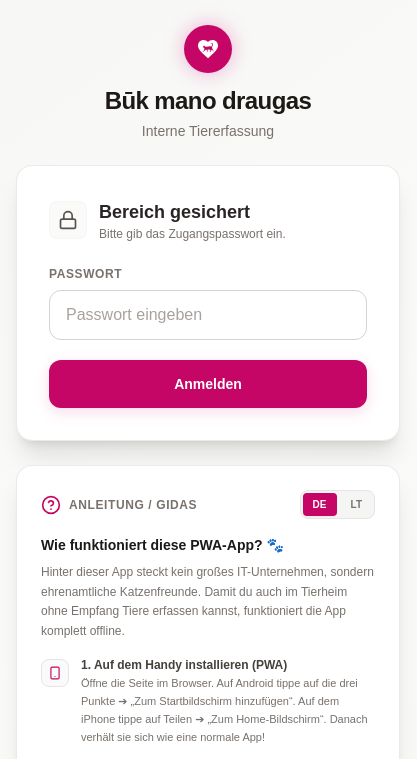
LoginPage Security & Authentication Tests › Negative Path: rejects wrong password and displays error banner
Step 1. Type "WRONG_PASSWORD_123" into the password field with placeholder "Passwort eingeben" → (208, 315), box top-left (49, 290), bottom-right (367, 340)
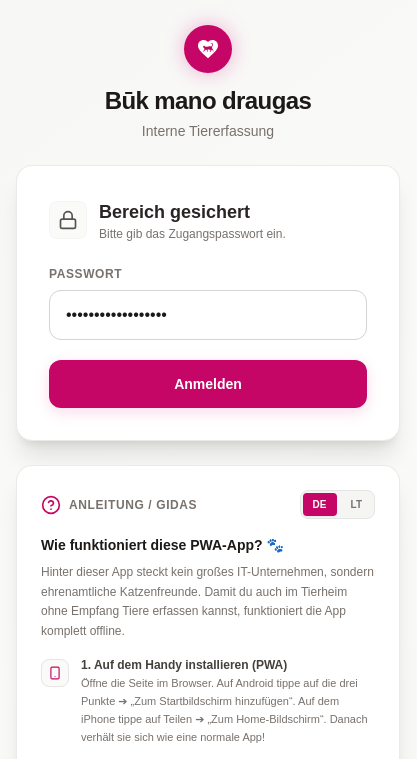
Step 2. Click the button "Anmelden" → click(208, 384), box top-left (49, 360), bottom-right (367, 408)
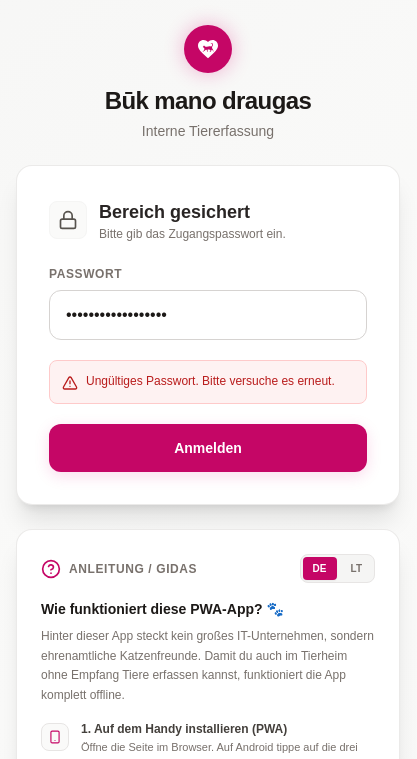
expect the text "Ungültiges Passwort. Bitte versuche es erneut." is shown: met, box top-left (86, 373), bottom-right (335, 389)
